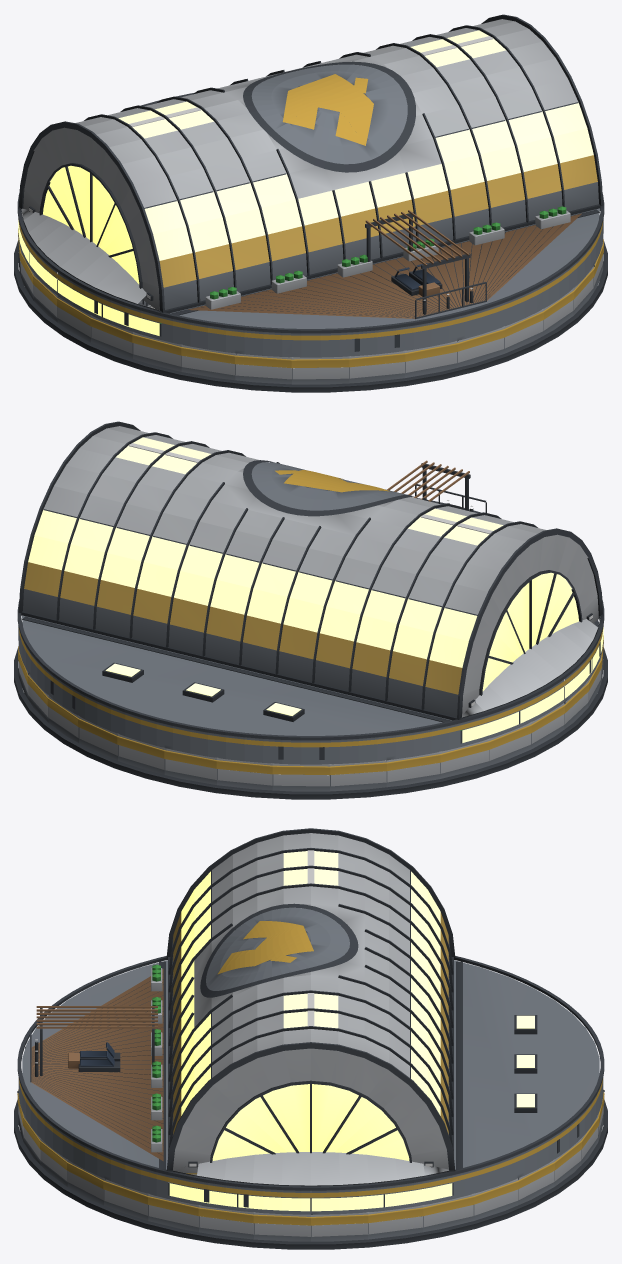
File: residence_tube_executive_xl_far.glb
3 renders of one model, top to bottom at view 1: azimuth 30°, elevation 25°; view 2: azimuth 150°, elevation 25°; view 3: azimuth 270°, elevation 25°, orthographic.
Visible parts, largest first — view 1: Roof, Base; view 2: Roof, Base; view 3: Roof, Base.
Part boxes in pixels (bbox=[...]): Roof: bbox=[17, 14, 604, 357]; Base: bbox=[14, 215, 607, 392]; Roof: bbox=[17, 421, 604, 764]; Base: bbox=[14, 620, 607, 799]; Roof: bbox=[17, 828, 604, 1214]; Base: bbox=[14, 1076, 607, 1249].
Bounding box in the file's own units: 25.74 × 9.02 × 25.74.
